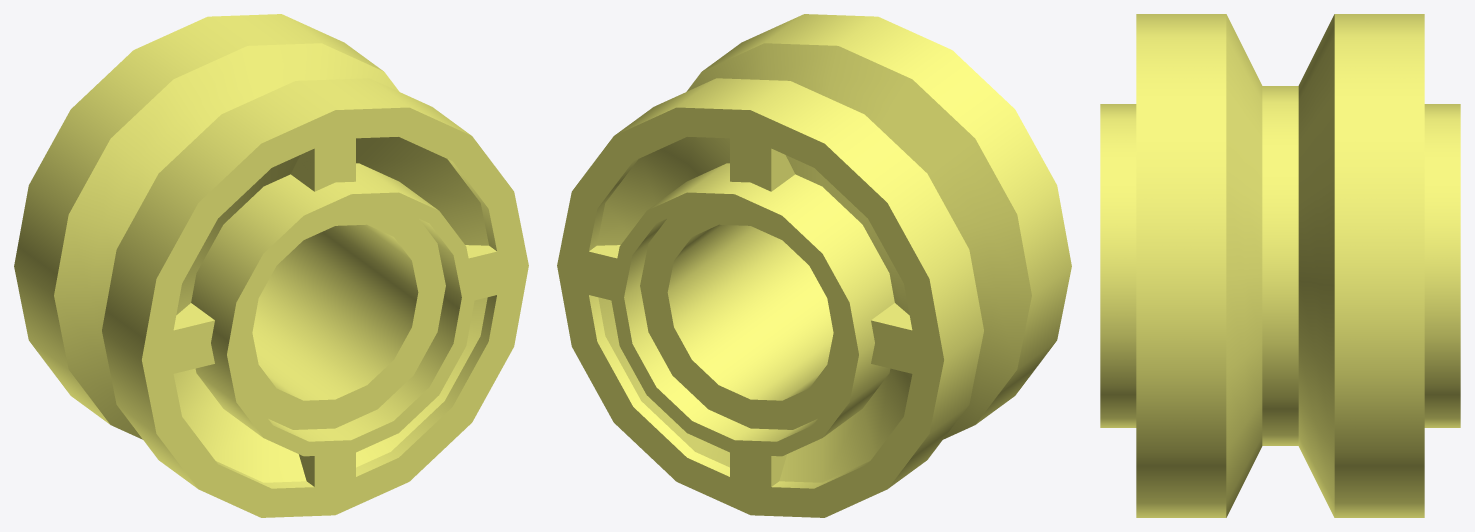
3 views of the same model, side by side, from view 1: azimuth 30°, elevation 25°; view 2: azimuth 150°, elevation 25°; view 3: azimuth 270°, elevation 25° (orthographic). The views are drawn at different scales.
Parts seen in each view (by area): view 1: 42610.dat; view 2: 42610.dat; view 3: 42610.dat.
Part boxes in pixels (<box>): 42610.dat: <box>14,14,528,517</box>; 42610.dat: <box>557,14,1071,517</box>; 42610.dat: <box>1100,14,1460,517</box>.
Size of the model in its own units: 0.0112 by 0.0112 by 0.008.
